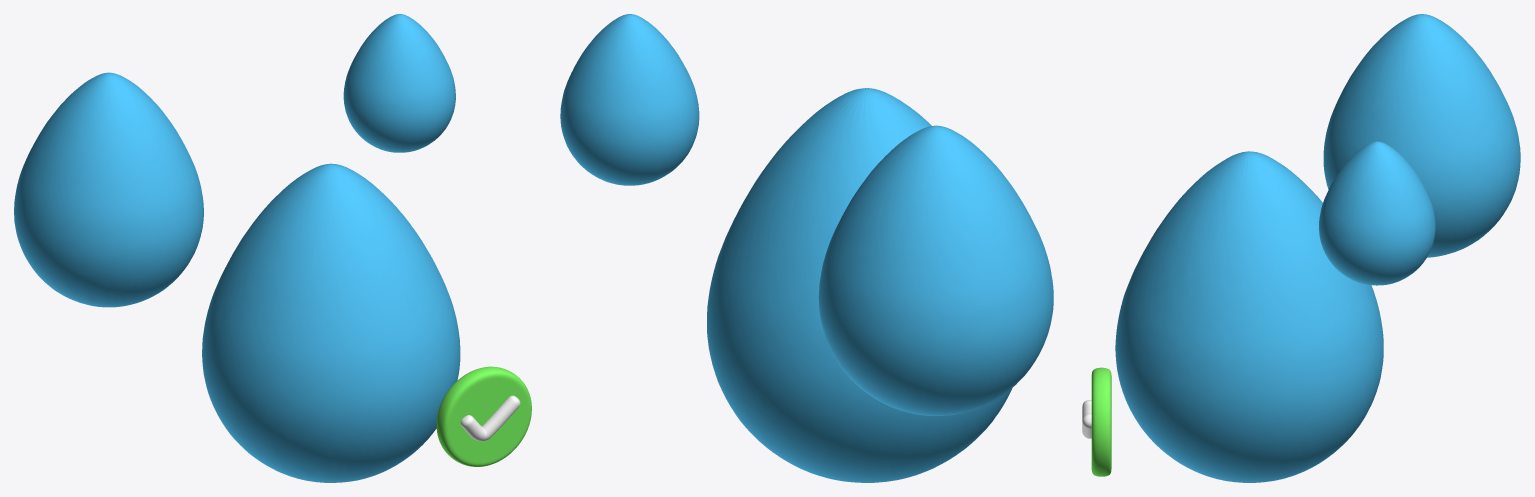
3 renders of one model, left to right at view 1: azimuth 30°, elevation 25°; view 2: azimuth 150°, elevation 25°; view 3: azimuth 270°, elevation 25°, orthographic. The views are drawn at different scales.
Visible parts, largest first — view 1: Sphere.002, Cylinder, NurbsPath.001; view 2: Sphere.002; view 3: Sphere.002, Cylinder.
Part boxes in pixels (<box>): Sphere.002: <box>14,14,460,482</box>; Cylinder: <box>436,366,531,466</box>; NurbsPath.001: <box>460,395,520,441</box>; Sphere.002: <box>560,14,1053,482</box>; Sphere.002: <box>1115,14,1520,482</box>; Cylinder: <box>1091,367,1111,476</box>.
Bounding box in the file's own units: 2.14 × 1.94 × 1.95.
